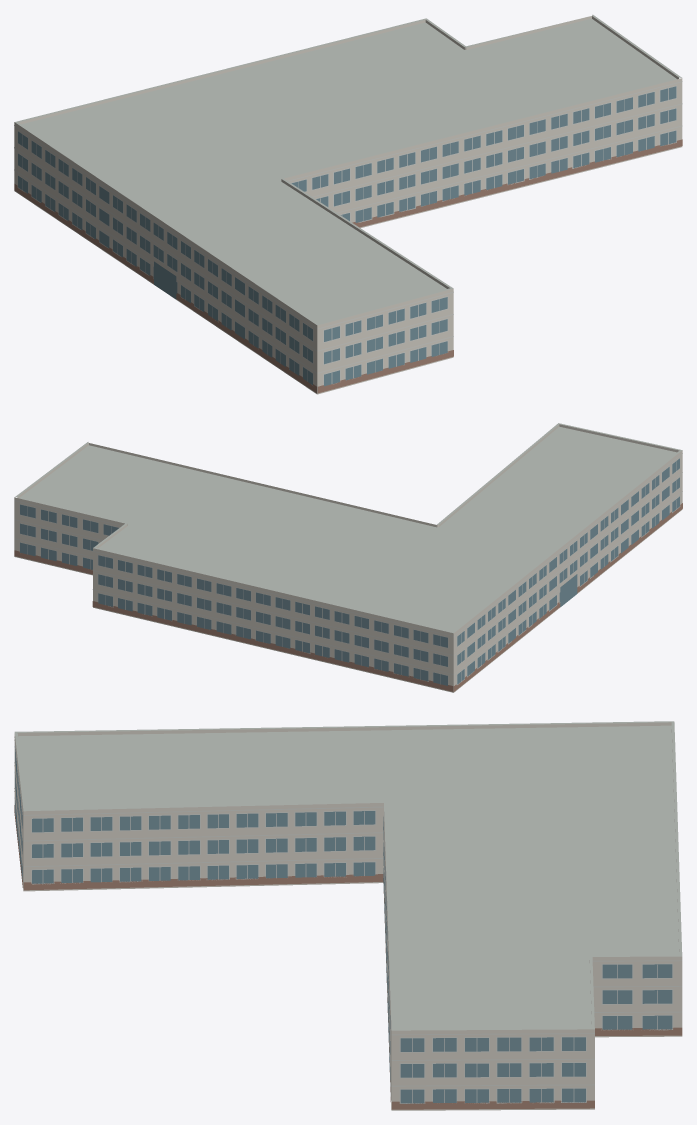
Rendered from public-3c1786bf-4b18-441b-993d-9ce78e4a8f58.glb.
The picture shows the model from 3 angles, top to bottom: view 1: azimuth 30°, elevation 25°; view 2: azimuth 150°, elevation 25°; view 3: azimuth 270°, elevation 25°; orthographic projection. The views are drawn at different scales.
Parts seen in each view (by area): view 1: public-3c1786bf-4b18-441b-993d-9ce78e4a8f58; view 2: public-3c1786bf-4b18-441b-993d-9ce78e4a8f58; view 3: public-3c1786bf-4b18-441b-993d-9ce78e4a8f58.
Part boxes in pixels (<box>): public-3c1786bf-4b18-441b-993d-9ce78e4a8f58: <box>14,14,682,394</box>; public-3c1786bf-4b18-441b-993d-9ce78e4a8f58: <box>14,423,682,692</box>; public-3c1786bf-4b18-441b-993d-9ce78e4a8f58: <box>14,721,682,1110</box>.
Size of the model in its own units: 75.84 by 9.15 by 69.17.
